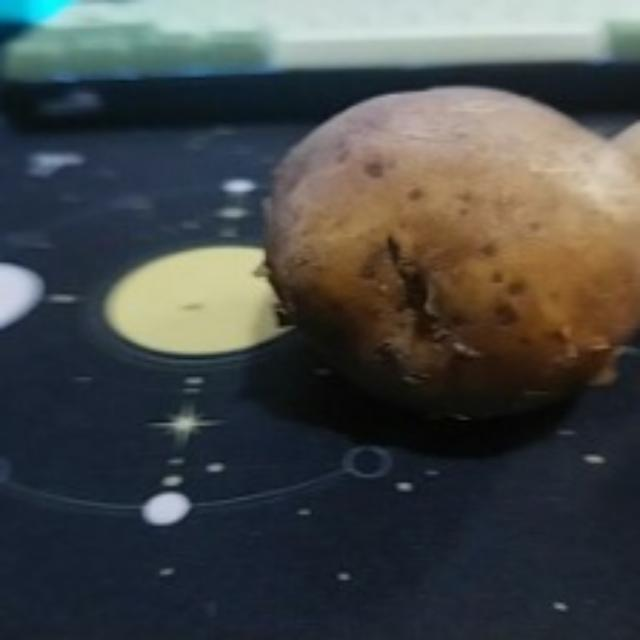Damaged potato: (260, 84, 640, 440)
